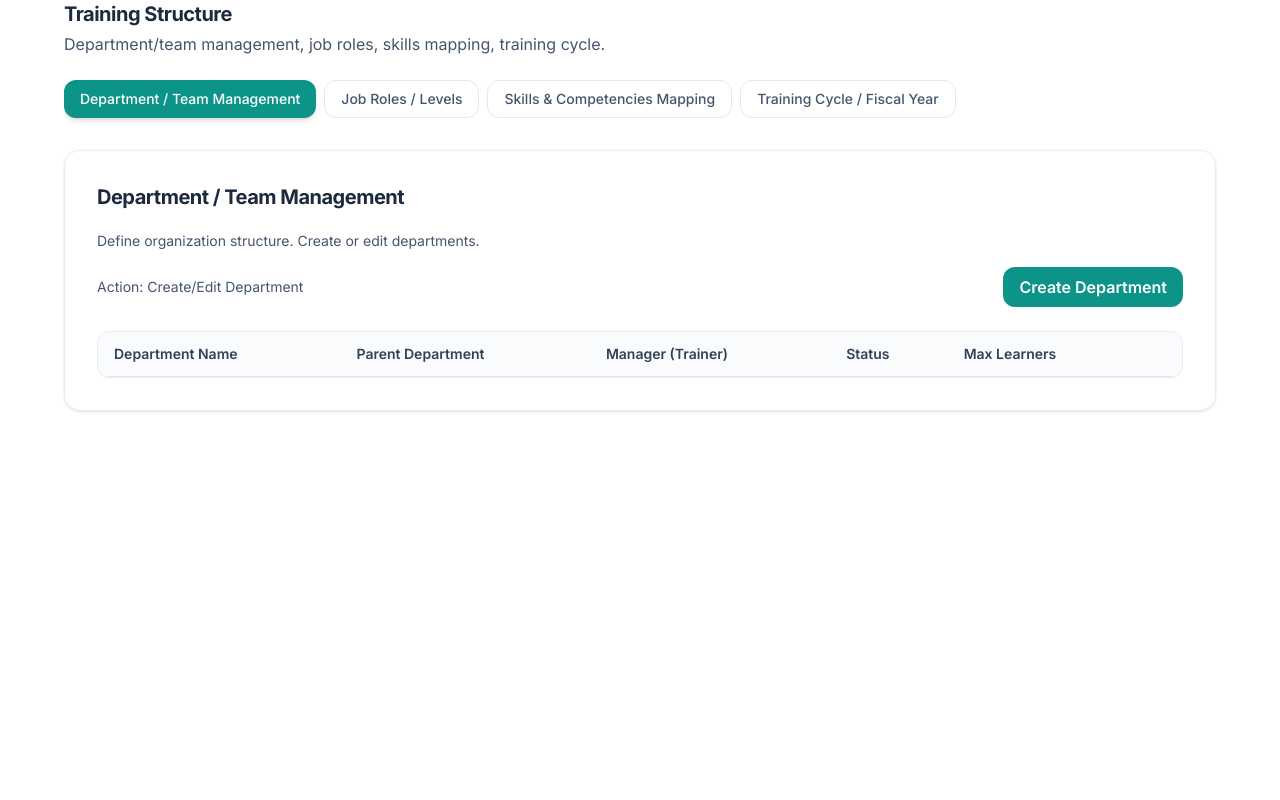
AcademicSetup – Department CRUD › opens Create Department modal when "Create Department" is clicked
Click the button "Create Department". click: click(1093, 287)
box: 1004,267 -> 1183,307
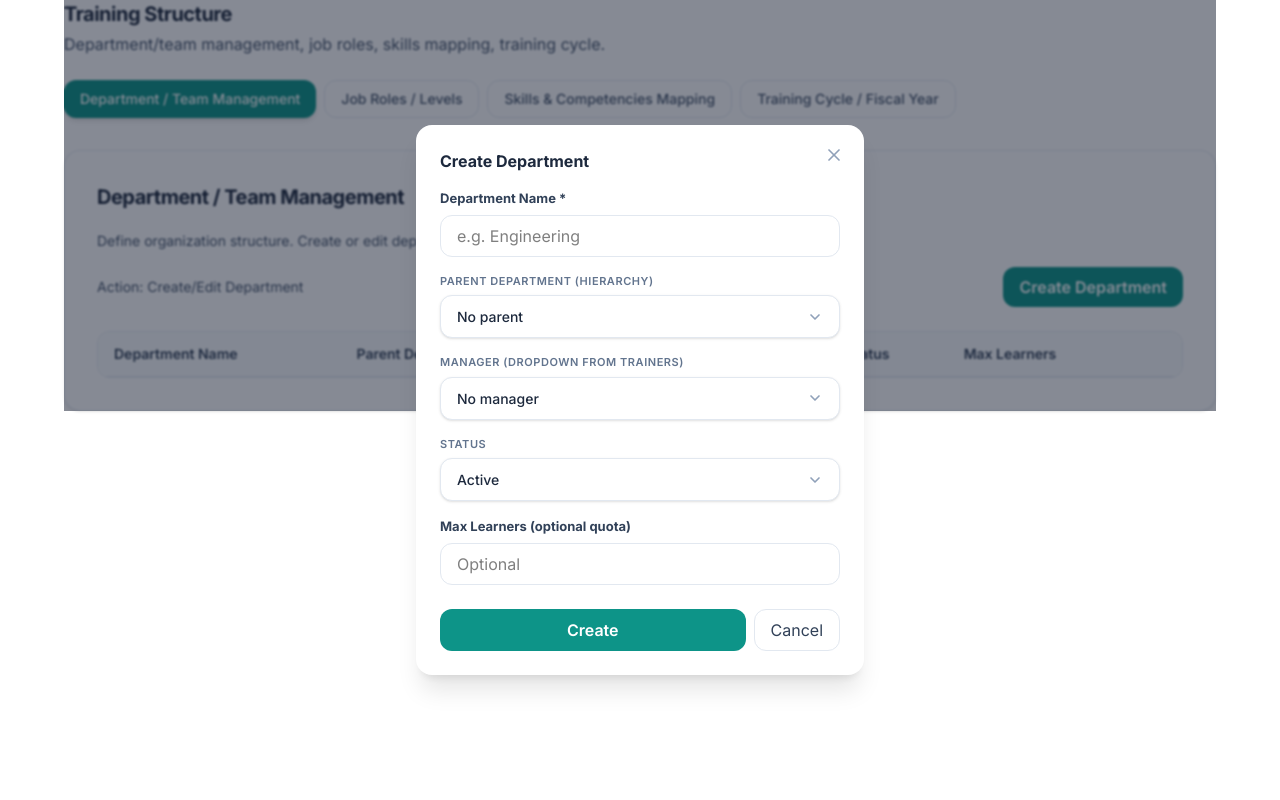
Check: the text "Department Name *" is shown, box 440,190 -> 566,206
